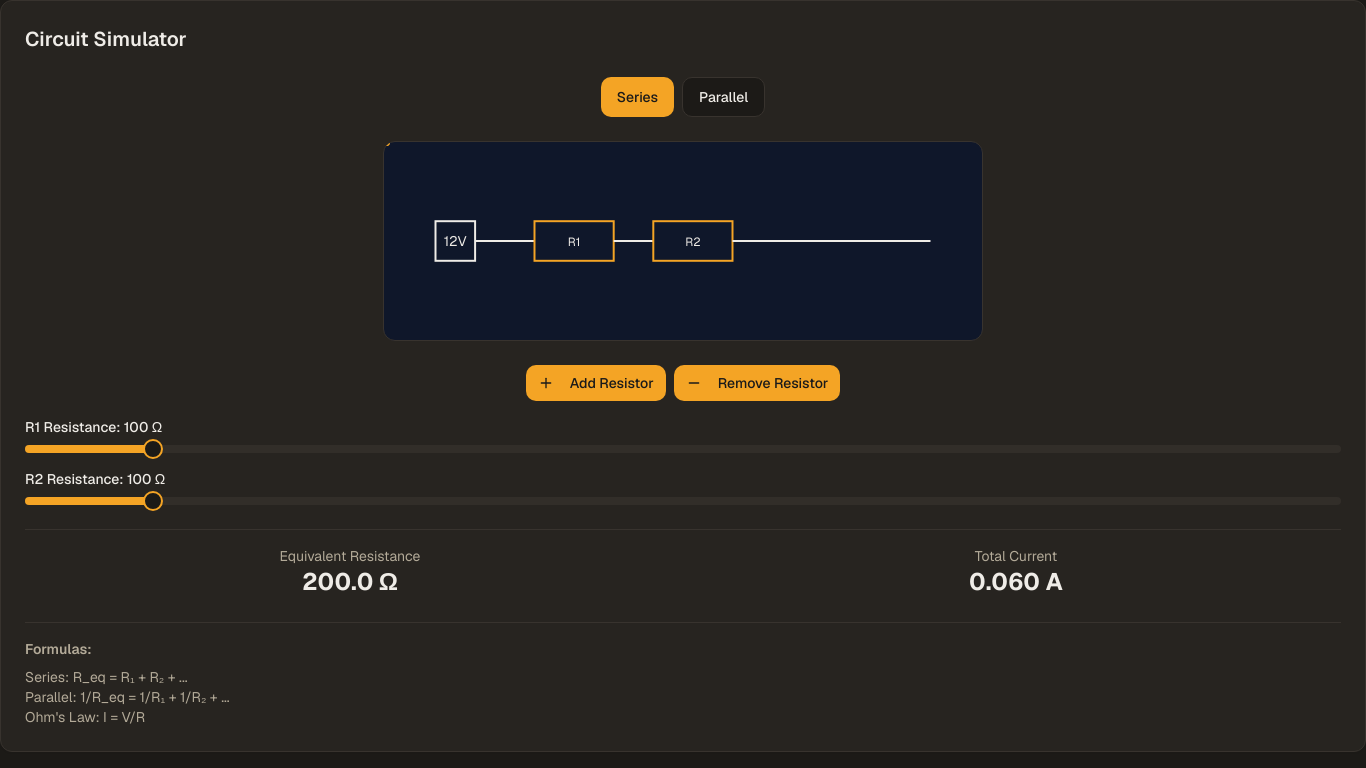
Test: CircuitSimulator › calculates correct parallel resistance when toggled
Click the button "Parallel" at (724, 97), box [682,77,765,117]
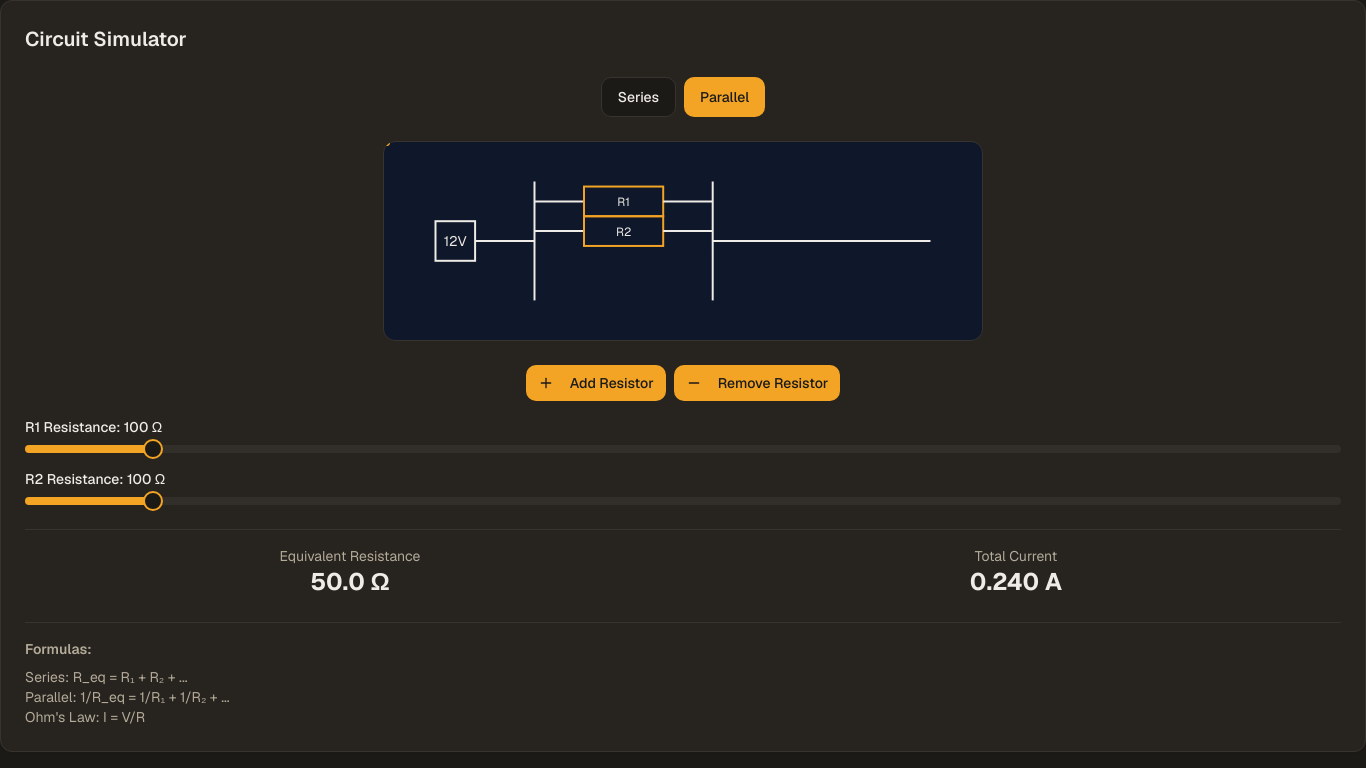
Now the text "50.0 Ω" is shown, box [310,566,390,597]
